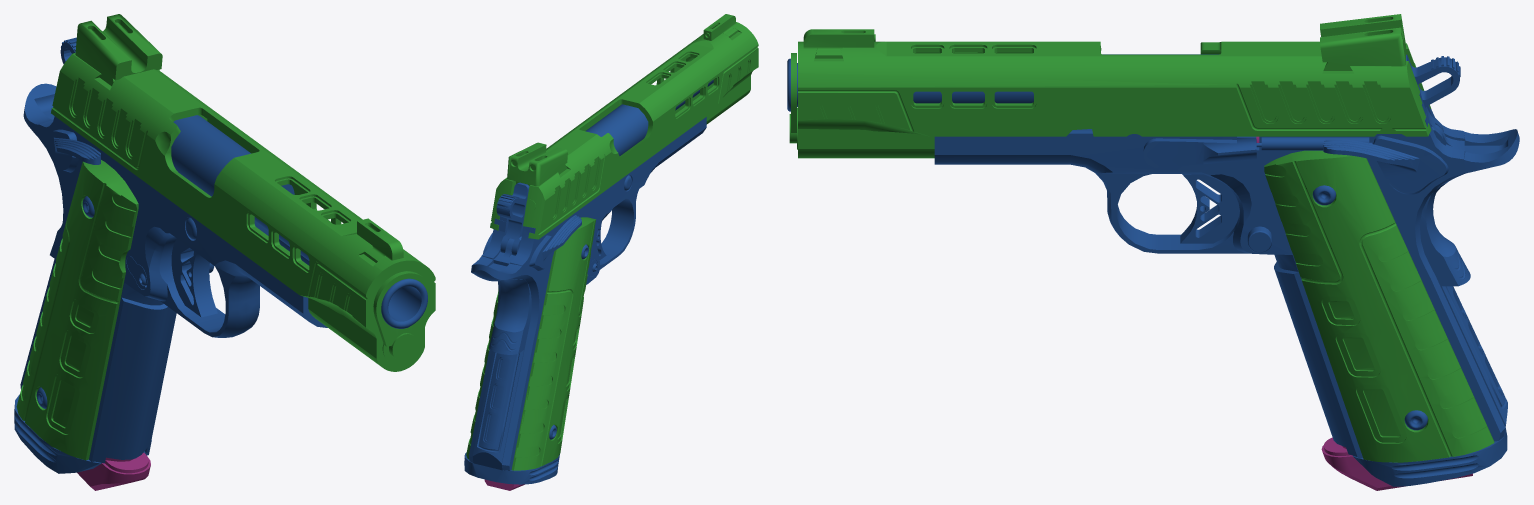
File: Kimber_1911.fbx
3 renders of one model, left to right at view 1: azimuth 30°, elevation 25°; view 2: azimuth 150°, elevation 25°; view 3: azimuth 270°, elevation 25°, orthographic. The views are drawn at different scales.
Parts seen in each view (by area): view 1: slide_low, body_low, grip_right_low, mag_low; view 2: body_low, slide_low, grip_right_low; view 3: slide_low, body_low, grip_right_low, mag_low.
Part boxes in pixels (x1,y1,x2,y2): slide_low: (51,14,435,371); body_low: (14,37,427,473); grip_right_low: (16,160,138,460); mag_low: (77,452,150,490); body_low: (464,80,713,484); slide_low: (490,14,758,239); grip_right_low: (466,217,596,470); slide_low: (789,14,1431,158); body_low: (787,54,1519,486); grip_right_low: (1264,150,1494,462); mag_low: (1256,136,1472,490).
Size of the model in its own units: 35.03 by 149 by 216.
